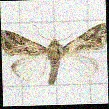Spodoptera litura: (2, 22, 107, 85)
